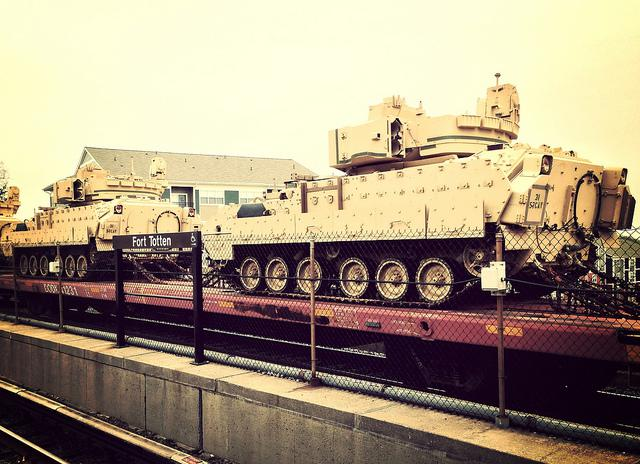Train: (200, 68, 639, 416)
